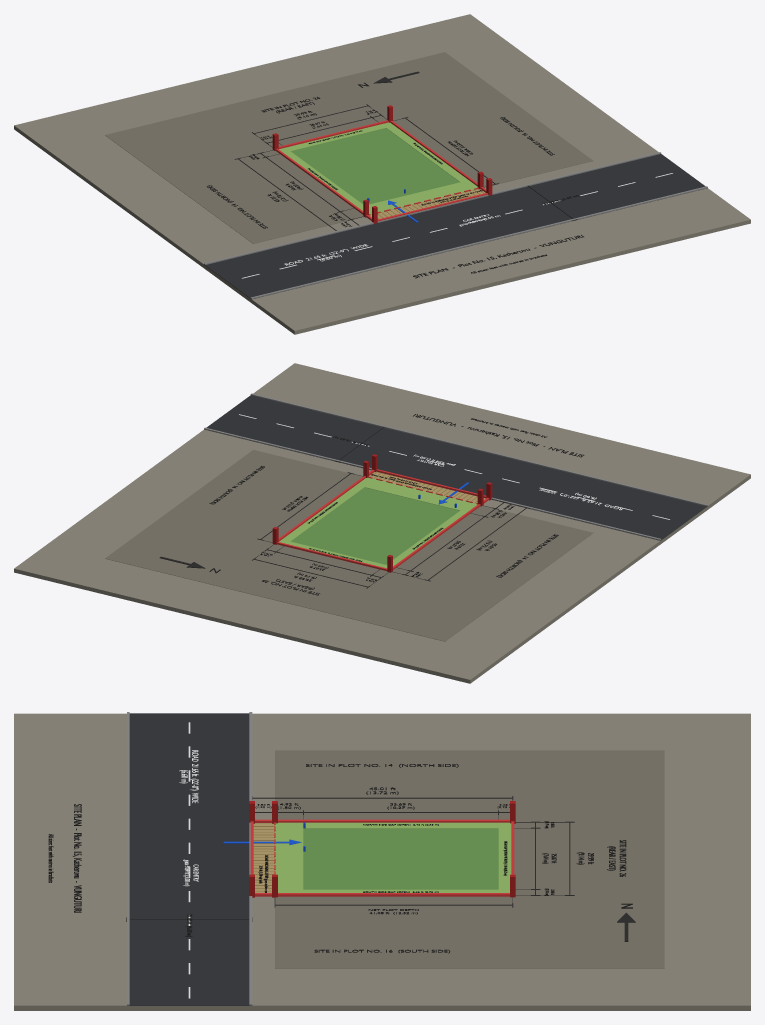
Rendered from 01_site.glb.
3 renders of one model, top to bottom at view 1: azimuth 30°, elevation 25°; view 2: azimuth 150°, elevation 25°; view 3: azimuth 270°, elevation 25°, orthographic. The views are drawn at different scales.
Visible parts, largest first — view 1: 01_Terrain, 01_Neighbour_Plot, 05_Road, 02_Plot_Grass, 02_Open_Gap, 05_Kerb, 03_Boundary_Line, 06_Dim_Line, 02_Road_Widening, 03_Boundary_Post; view 2: 01_Terrain, 01_Neighbour_Plot, 05_Road, 02_Plot_Grass, 02_Open_Gap, 05_Kerb, 03_Boundary_Line, 06_Dim_Line, 02_Road_Widening, 03_Boundary_Post; view 3: 01_Terrain, 01_Neighbour_Plot, 05_Road, 02_Plot_Grass, 02_Open_Gap, 03_Boundary_Line, 06_Dim_Line, 05_Kerb, 02_Road_Widening, 03_Boundary_Post, Title, 02_Road_Widening_Hatch.
Boxes of the visible parts, left/top/right/bottom form: 01_Terrain: left=14, top=14, right=750, bottom=334; 01_Neighbour_Plot: left=105, top=52, right=593, bottom=243; 05_Road: left=204, top=154, right=707, bottom=299; 02_Plot_Grass: left=291, top=128, right=459, bottom=204; 02_Open_Gap: left=279, top=122, right=477, bottom=214; 05_Kerb: left=204, top=152, right=707, bottom=299; 03_Boundary_Line: left=275, top=120, right=487, bottom=221; 06_Dim_Line: left=234, top=71, right=577, bottom=230; 02_Road_Widening: left=369, top=189, right=485, bottom=219; 03_Boundary_Post: left=272, top=105, right=492, bottom=223; 01_Terrain: left=14, top=363, right=750, bottom=683; 01_Neighbour_Plot: left=105, top=450, right=593, bottom=641; 05_Road: left=206, top=395, right=707, bottom=540; 02_Plot_Grass: left=291, top=487, right=459, bottom=564; 02_Open_Gap: left=279, top=477, right=477, bottom=568; 05_Kerb: left=204, top=393, right=707, bottom=540; 03_Boundary_Line: left=277, top=469, right=489, bottom=570; 06_Dim_Line: left=159, top=427, right=529, bottom=588; 02_Road_Widening: left=369, top=471, right=485, bottom=503; 03_Boundary_Post: left=272, top=454, right=492, bottom=572; 01_Terrain: left=14, top=713, right=750, bottom=1010; 01_Neighbour_Plot: left=275, top=750, right=664, bottom=968; 05_Road: left=127, top=713, right=251, bottom=1005; 02_Plot_Grass: left=303, top=828, right=498, bottom=889; 02_Open_Gap: left=275, top=822, right=511, bottom=892; 03_Boundary_Line: left=250, top=819, right=514, bottom=896; 06_Dim_Line: left=126, top=796, right=635, bottom=941; 05_Kerb: left=127, top=712, right=252, bottom=1005; 02_Road_Widening: left=253, top=823, right=274, bottom=892; 03_Boundary_Post: left=249, top=801, right=515, bottom=897; Title: left=73, top=804, right=81, bottom=912; 02_Road_Widening_Hatch: left=253, top=823, right=274, bottom=891.
Size of the model in its own units: 36.4 by 1.5 by 38.8.
